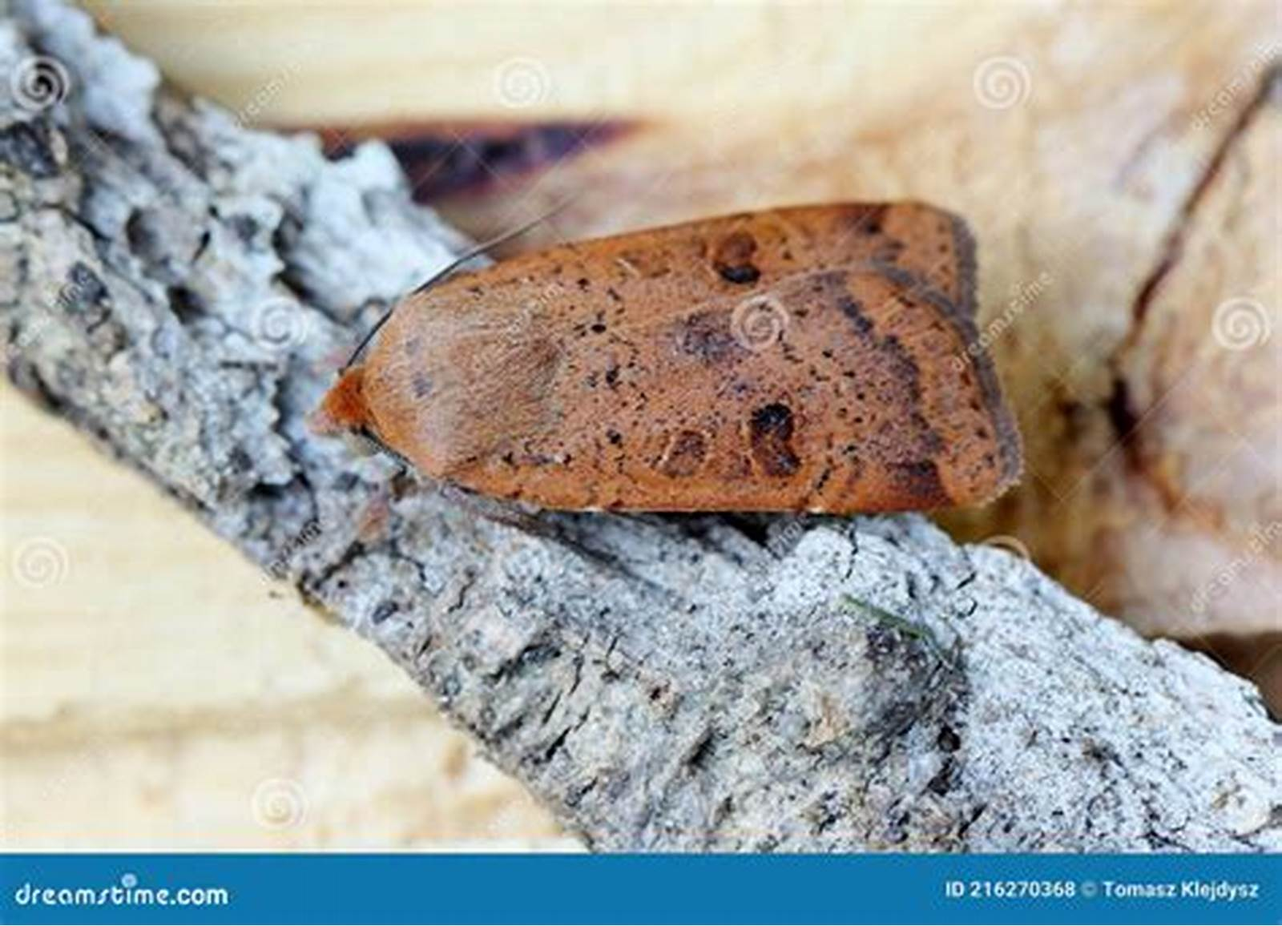Noctuidae: (314, 194, 1013, 527)
